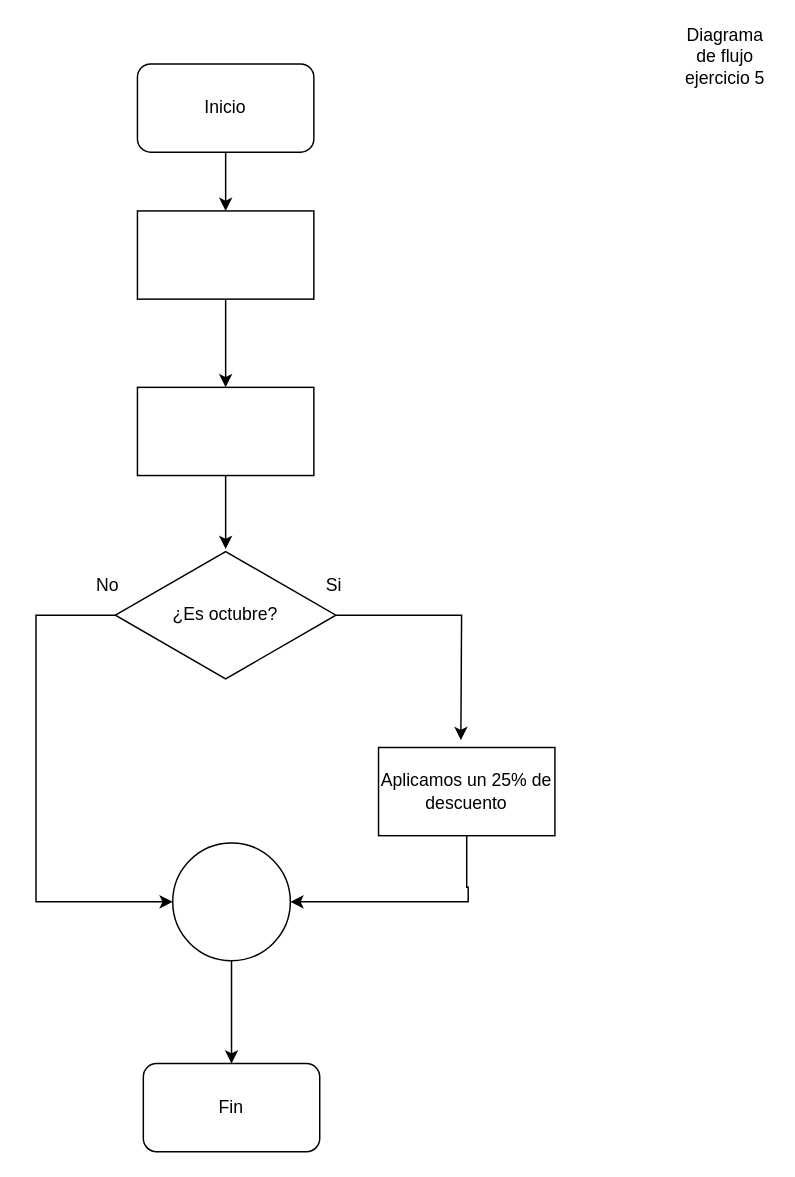
Some shapes in this 795 by 1177 pixel diagram are drawn without their labels. Here are the shapes that lost their labels. From the top down, the box of each, then its label:
(136, 209, 314, 299): Leemos el importe
(136, 386, 314, 476): Leemos el mes
